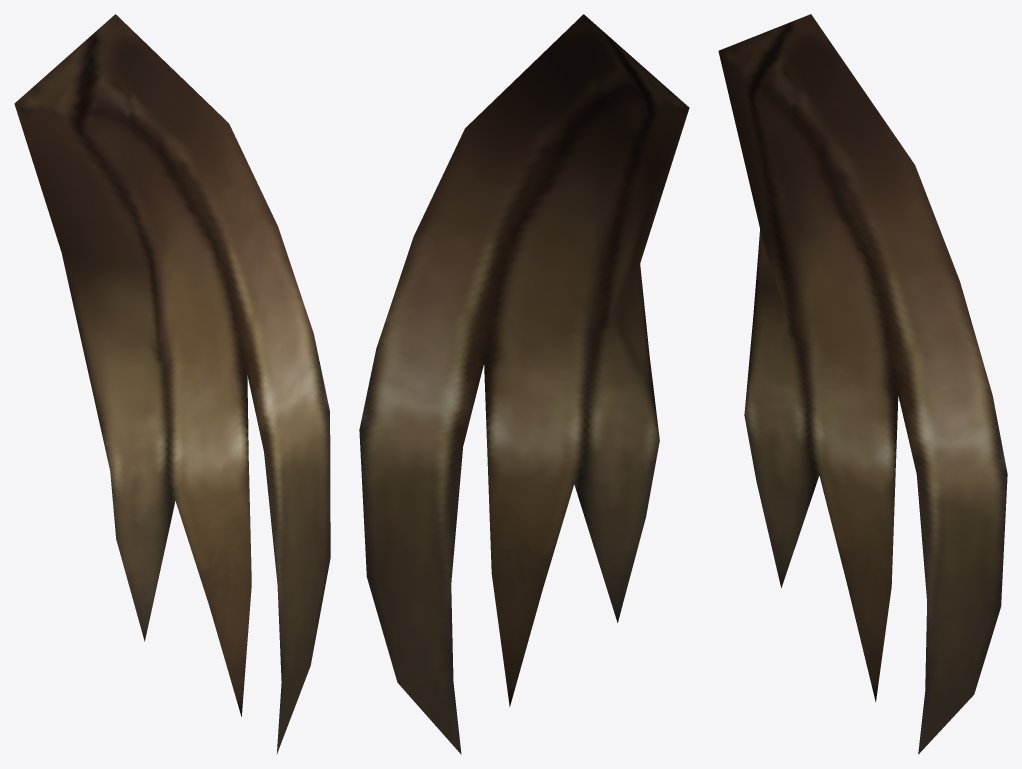
The model's file is FX_lfl_npc_shield_cibang01_02.FBX.
3 views of the same model, side by side, from view 1: azimuth 30°, elevation 25°; view 2: azimuth 150°, elevation 25°; view 3: azimuth 330°, elevation 25° (orthographic). The views are drawn at different scales.
Parts seen in each view (by area): view 1: cibang01; view 2: cibang01; view 3: cibang01.
Boxes of the visible parts, x1=… form: cibang01: x1=14, y1=14, x2=330, y2=754; cibang01: x1=359, y1=14, x2=689, y2=754; cibang01: x1=718, y1=14, x2=1007, y2=754.
Size of the model in its own units: 11.61 by 26.67 by 2.48.
Materials: 1 (1 with a texture image).
